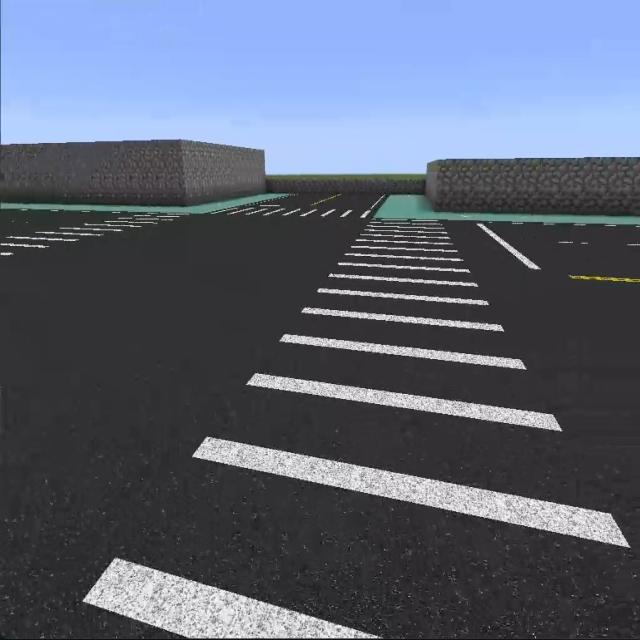crosswalk: (51, 219, 639, 637), (2, 213, 197, 273), (204, 204, 377, 222)
road: (2, 216, 359, 621), (447, 222, 638, 536), (1, 211, 129, 235), (249, 193, 386, 208)
sidewalk: (372, 195, 639, 228), (0, 194, 286, 213)
